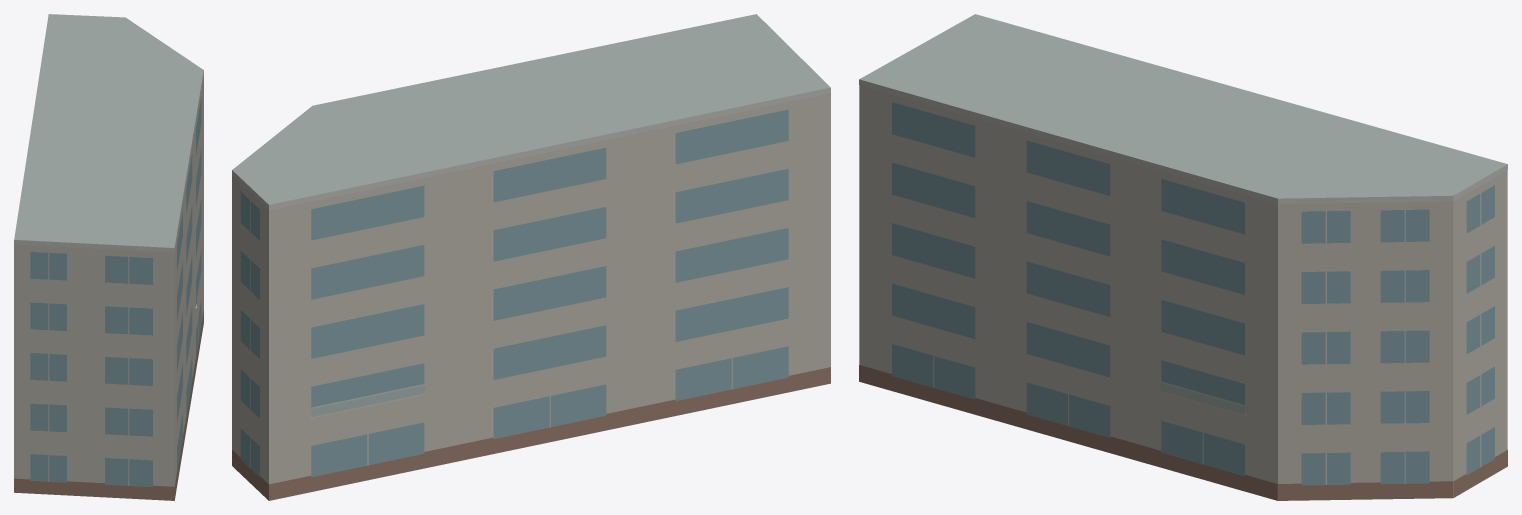
File: survey-upis-32702794.glb
3 renders of one model, left to right at view 1: azimuth 30°, elevation 25°; view 2: azimuth 150°, elevation 25°; view 3: azimuth 270°, elevation 25°, orthographic. The views are drawn at different scales.
Parts seen in each view (by area): view 1: survey-upis-32702794.tmp; view 2: survey-upis-32702794.tmp; view 3: survey-upis-32702794.tmp.
Part boxes in pixels (bbox=[...]): survey-upis-32702794.tmp: bbox=[14, 14, 203, 500]; survey-upis-32702794.tmp: bbox=[232, 14, 830, 500]; survey-upis-32702794.tmp: bbox=[859, 14, 1507, 500].
Size of the model in its own units: 17.29 by 13.2 by 25.68.
